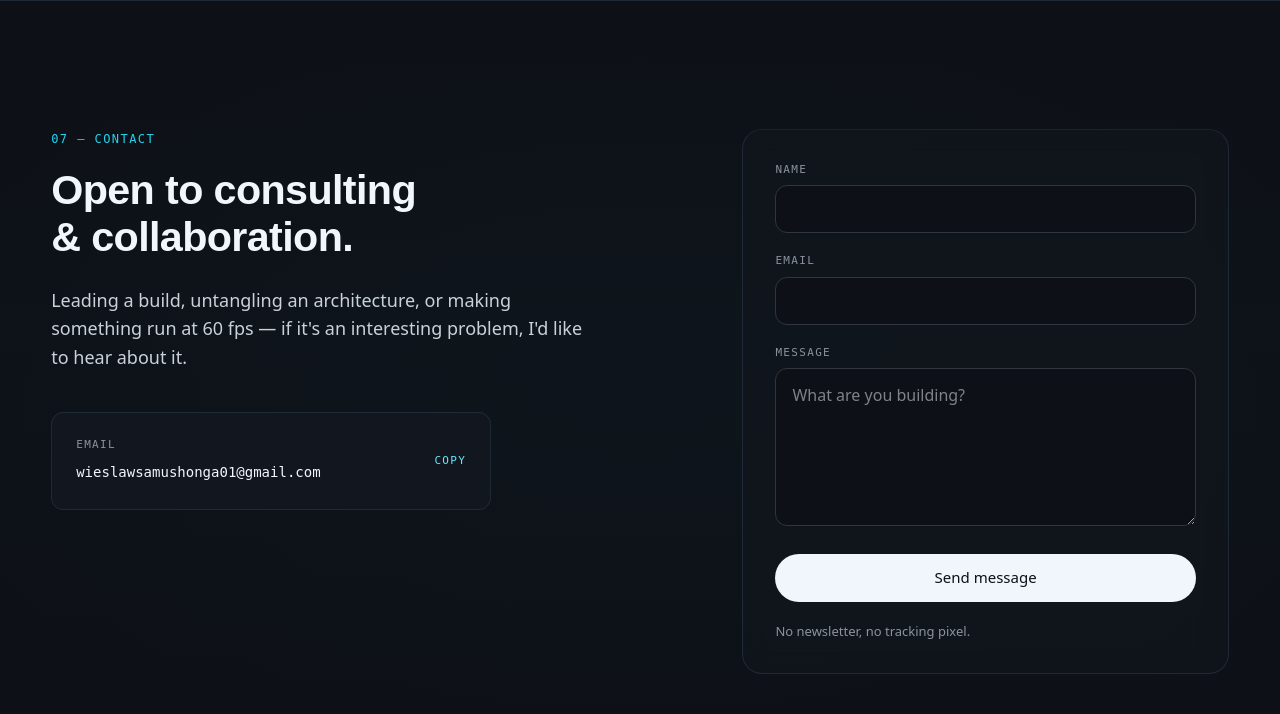
Contact — form › keeps the export wording only when the visitor really is offline
Type "ada@example.com" into the field labelled "Email". click: (986, 301)
box: [775,277,1196,325]
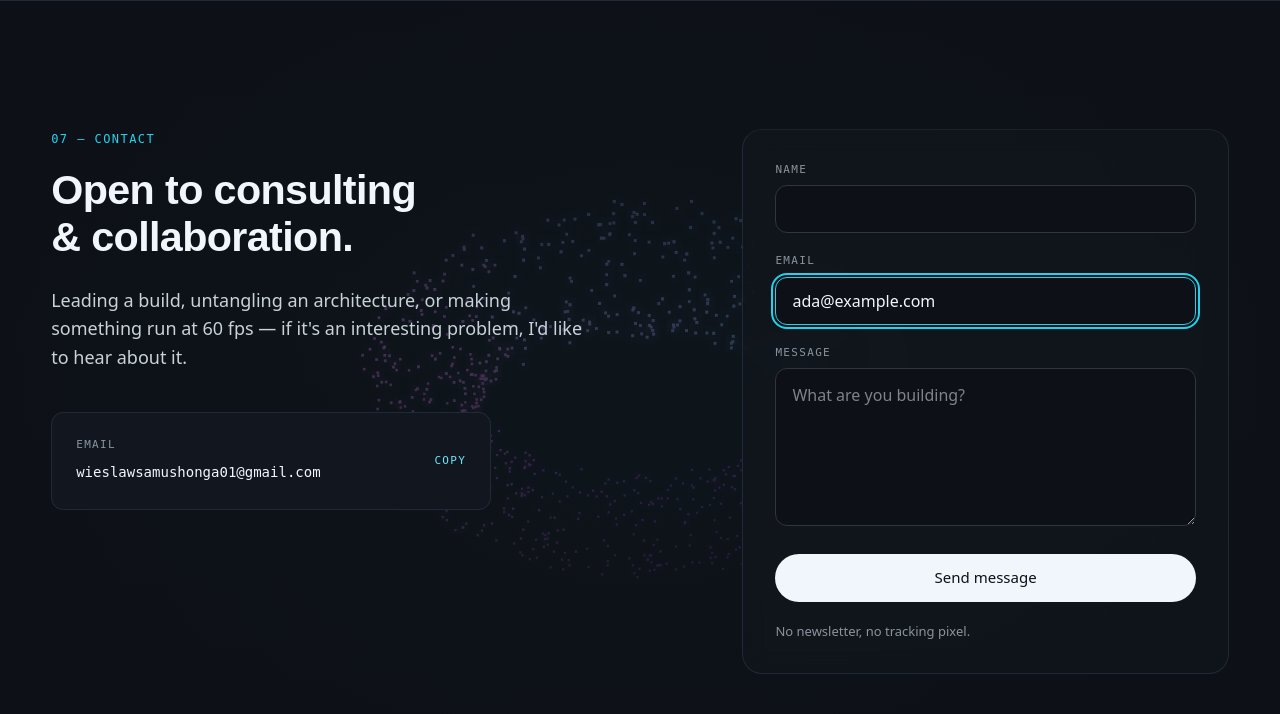
Click the button "Send message". click: click(986, 578)
box: [775,554,1196,602]
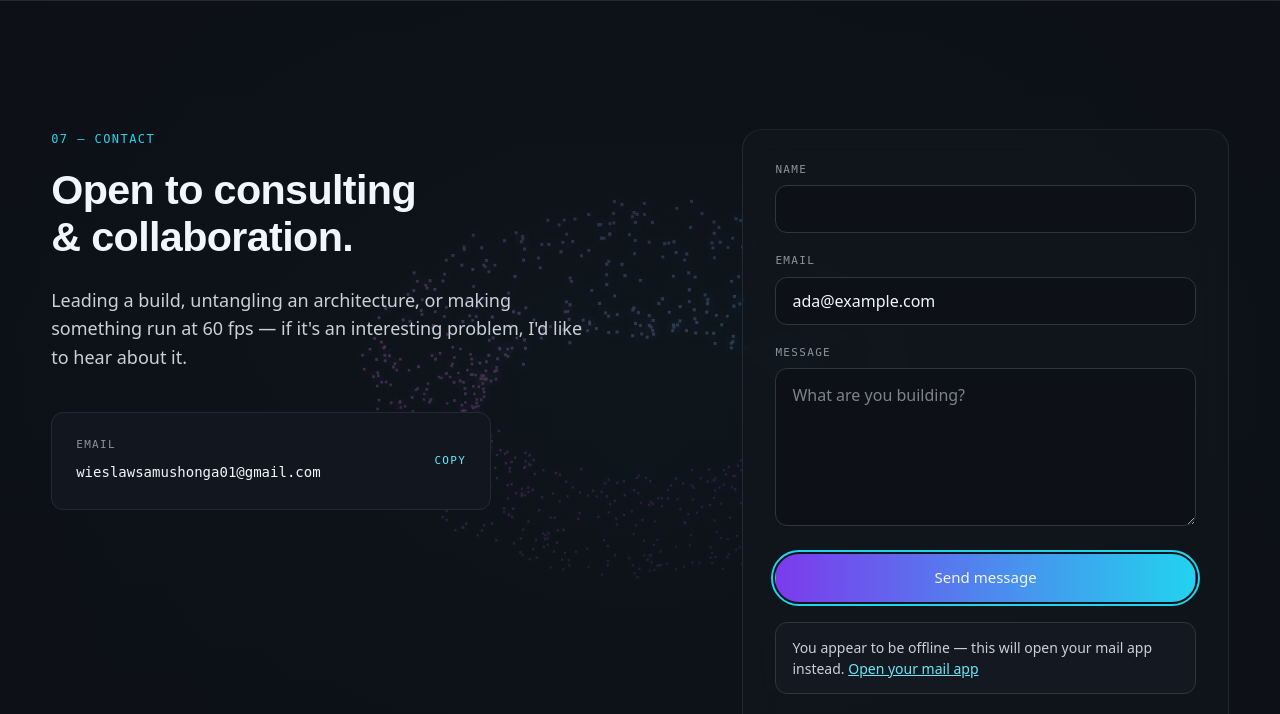
Expected: the message shows "You appear to be offline — this will open your mail app instead.", [792,638,1152,678]
